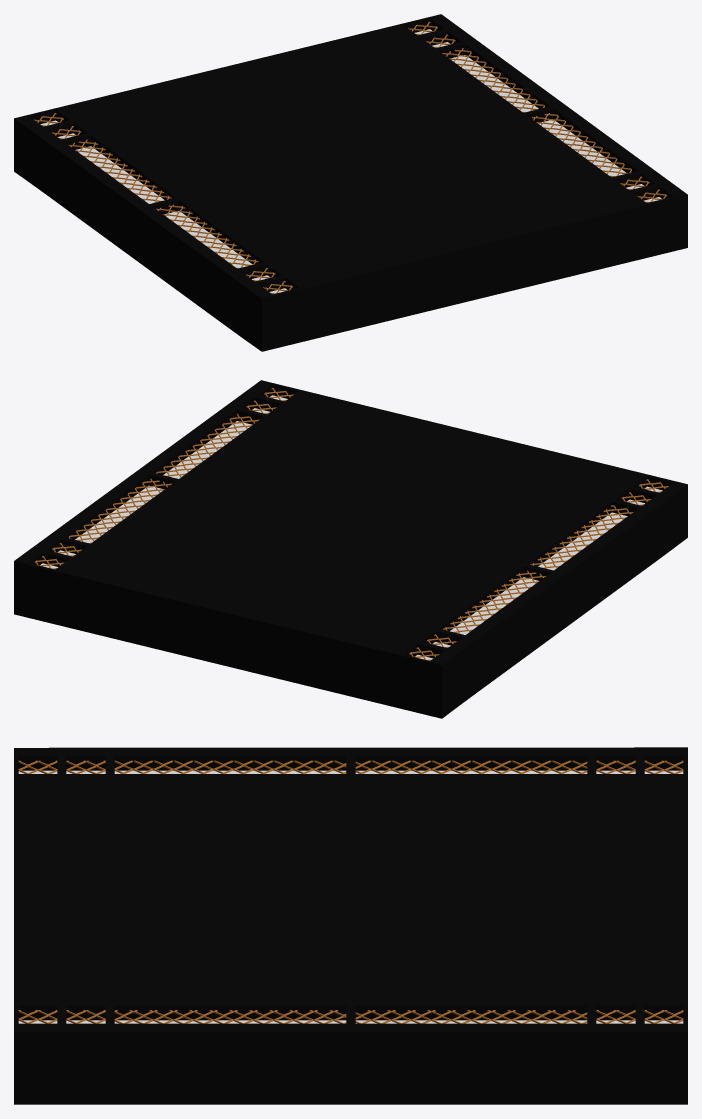
Rendered from floor1[regular].fbx.
The picture shows the model from 3 angles, top to bottom: view 1: azimuth 30°, elevation 25°; view 2: azimuth 150°, elevation 25°; view 3: azimuth 270°, elevation 25°; orthographic projection. The views are drawn at different scales.
Parts seen in each view (by area): view 1: Floor1; view 2: Floor1; view 3: Floor1.
Part boxes in pixels (x1,y1,x2,y2): Floor1: [14, 14, 687, 351]; Floor1: [14, 380, 687, 718]; Floor1: [14, 747, 687, 1104].
Size of the model in its own units: 420 by 50 by 420.
